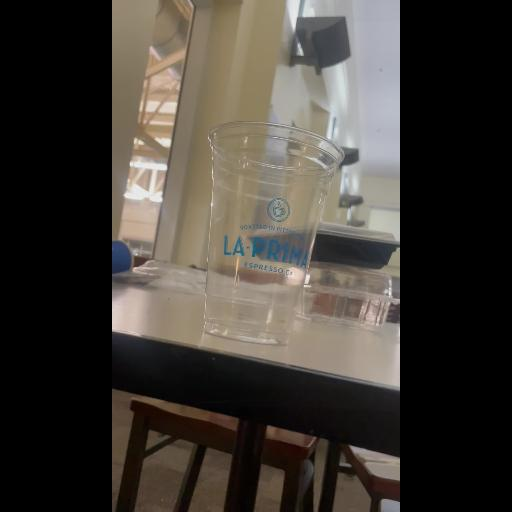lp_plastic_cup: (200, 114, 344, 356)
